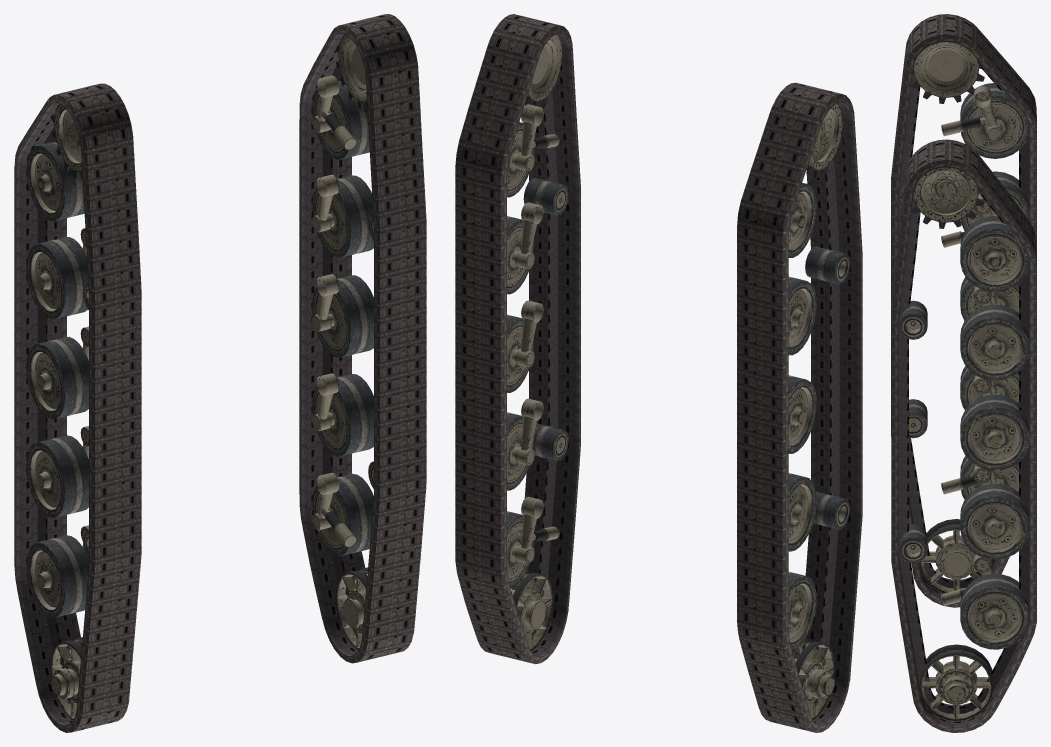
File: Chassis.glb
3 renders of one model, left to right at view 1: azimuth 30°, elevation 25°; view 2: azimuth 150°, elevation 25°; view 3: azimuth 270°, elevation 25°, orthographic. The views are drawn at different scales.
Parts seen in each view (by area): view 1: set_0_group_0, set_1_group_0, set_3_group_0, set_2_group_0; view 2: set_0_group_0, set_1_group_0, set_3_group_0, set_2_group_0; view 3: set_3_group_0, set_1_group_0, set_2_group_0, set_0_group_0.
Part boxes in pixels (x1,y1,x2,y2): set_0_group_0: [14, 83, 141, 732]; set_1_group_0: [299, 14, 426, 663]; set_3_group_0: [312, 17, 408, 649]; set_2_group_0: [26, 104, 89, 719]; set_0_group_0: [737, 82, 862, 732]; set_1_group_0: [455, 14, 580, 664]; set_3_group_0: [507, 16, 568, 651]; set_2_group_0: [788, 103, 849, 719]; set_3_group_0: [898, 143, 1029, 720]; set_1_group_0: [891, 139, 1036, 732]; set_2_group_0: [898, 42, 1029, 593]; set_0_group_0: [891, 14, 1036, 607].
Size of the model in its own units: 2.85 by 5.12 by 1.18.
Materials: 4 (4 with a texture image).
